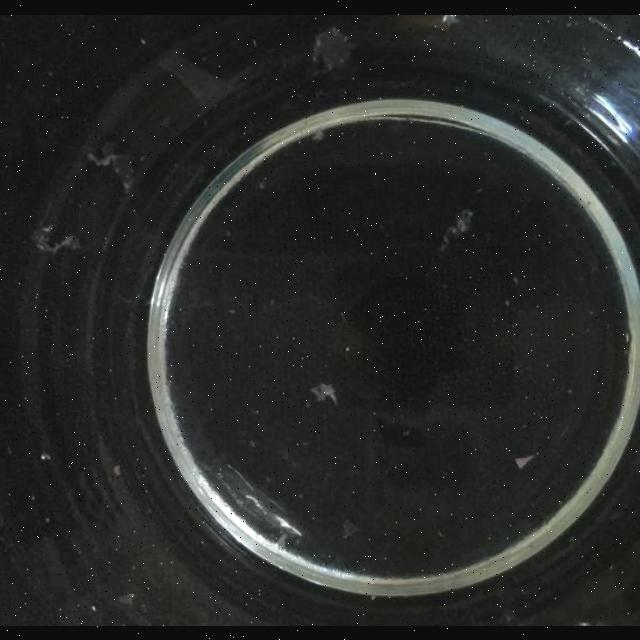Fibre: (89, 140, 135, 188), (310, 24, 354, 70), (436, 207, 476, 253), (34, 224, 80, 253), (310, 382, 338, 404), (453, 208, 473, 232), (58, 233, 82, 251), (275, 529, 295, 549), (444, 14, 478, 22), (310, 128, 326, 142)
microbeads: (117, 592, 135, 606), (112, 463, 121, 475), (40, 452, 51, 461), (578, 620, 592, 626)
